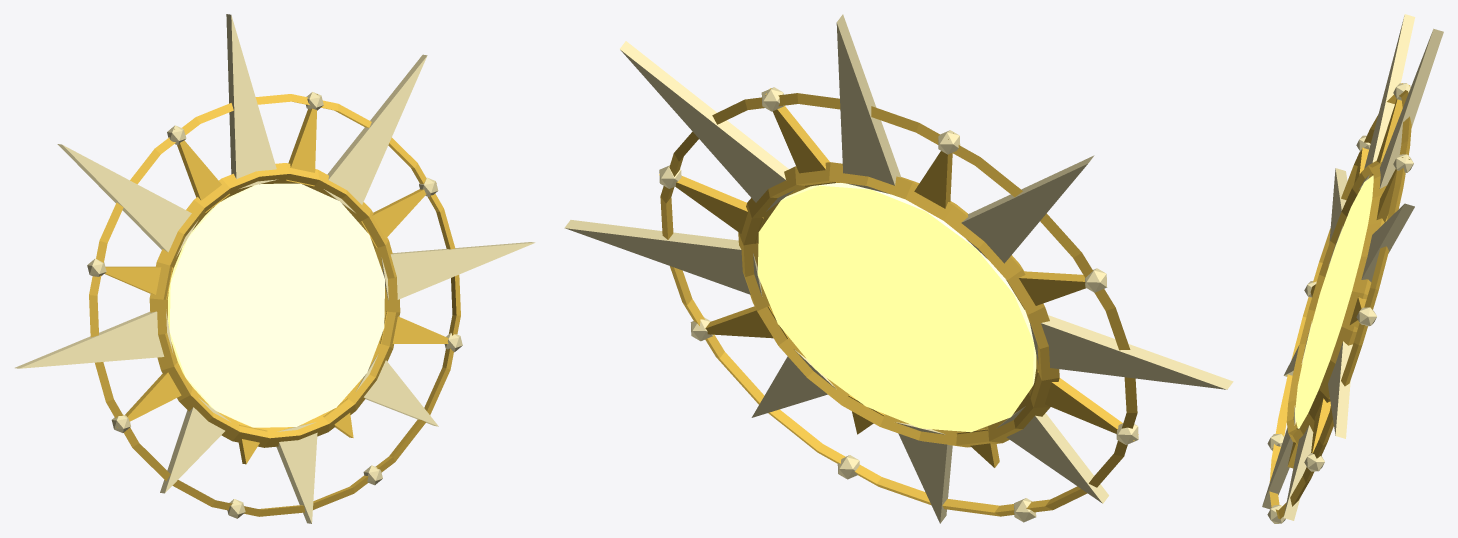
Rendered from S4_Light_Halo.fbx.
3 renders of one model, left to right at view 1: azimuth 30°, elevation 25°; view 2: azimuth 150°, elevation 25°; view 3: azimuth 270°, elevation 25°, orthographic. The views are drawn at different scales.
Parts seen in each view (by area): view 1: S4_Light_Halo; view 2: S4_Light_Halo; view 3: S4_Light_Halo.
Boxes of the visible parts, box(x1,y1,x2,y2) form: S4_Light_Halo: box(15, 14, 535, 523); S4_Light_Halo: box(564, 14, 1233, 523); S4_Light_Halo: box(1262, 14, 1443, 523).
Size of the model in its own units: 1.44 by 1.21 by 0.4131.
